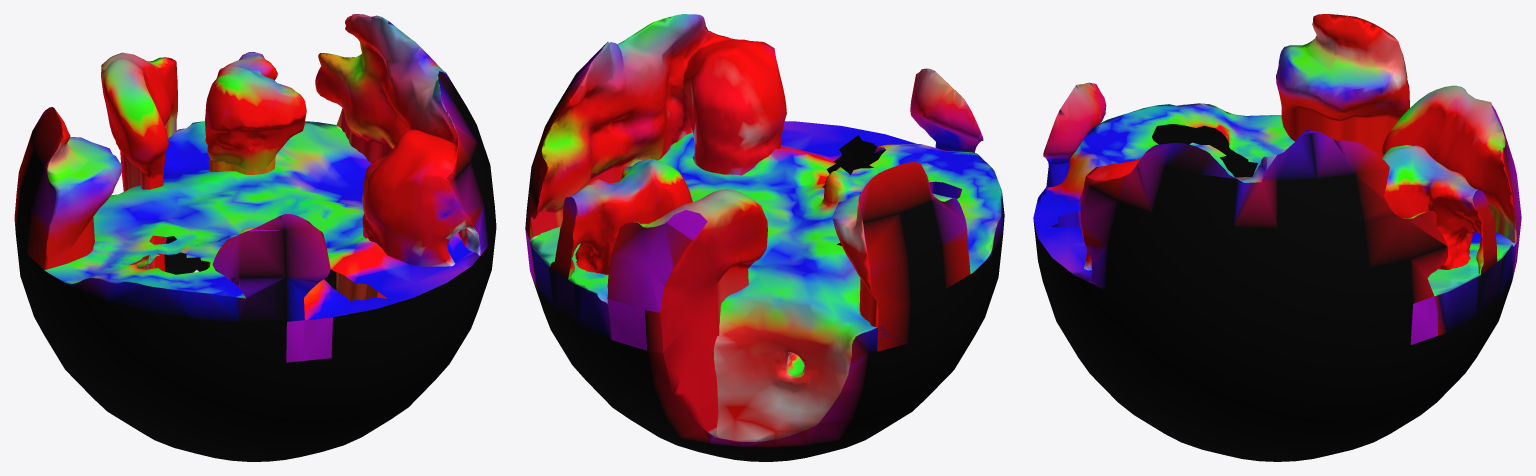
The model's file is FSCSimulacrum.fbx.
3 renders of one model, left to right at view 1: azimuth 30°, elevation 25°; view 2: azimuth 150°, elevation 25°; view 3: azimuth 270°, elevation 25°, orthographic.
Parts seen in each view (by area): view 1: Simulacrum Terrain; view 2: Simulacrum Terrain; view 3: Simulacrum Terrain.
Part boxes in pixels (x1=…): Simulacrum Terrain: x1=14, y1=14, x2=496, y2=461; Simulacrum Terrain: x1=525, y1=14, x2=1004, y2=461; Simulacrum Terrain: x1=1033, y1=14, x2=1521, y2=461.
Size of the model in its own units: 45806 by 39323 by 45806.
